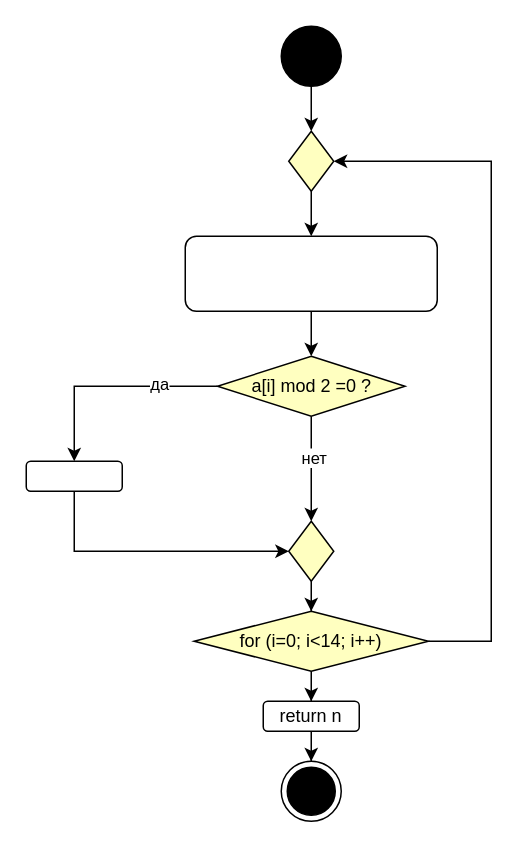
This 530x848 diagram has some shape labels left out. The shapes that lost their labels are listed below. From the top down, each one's centre as x and y in pixels, then its label:
At point (310, 273): "Присвоение элементу массива целочисленное значение и его вывод".
At point (73, 475): "n++".
